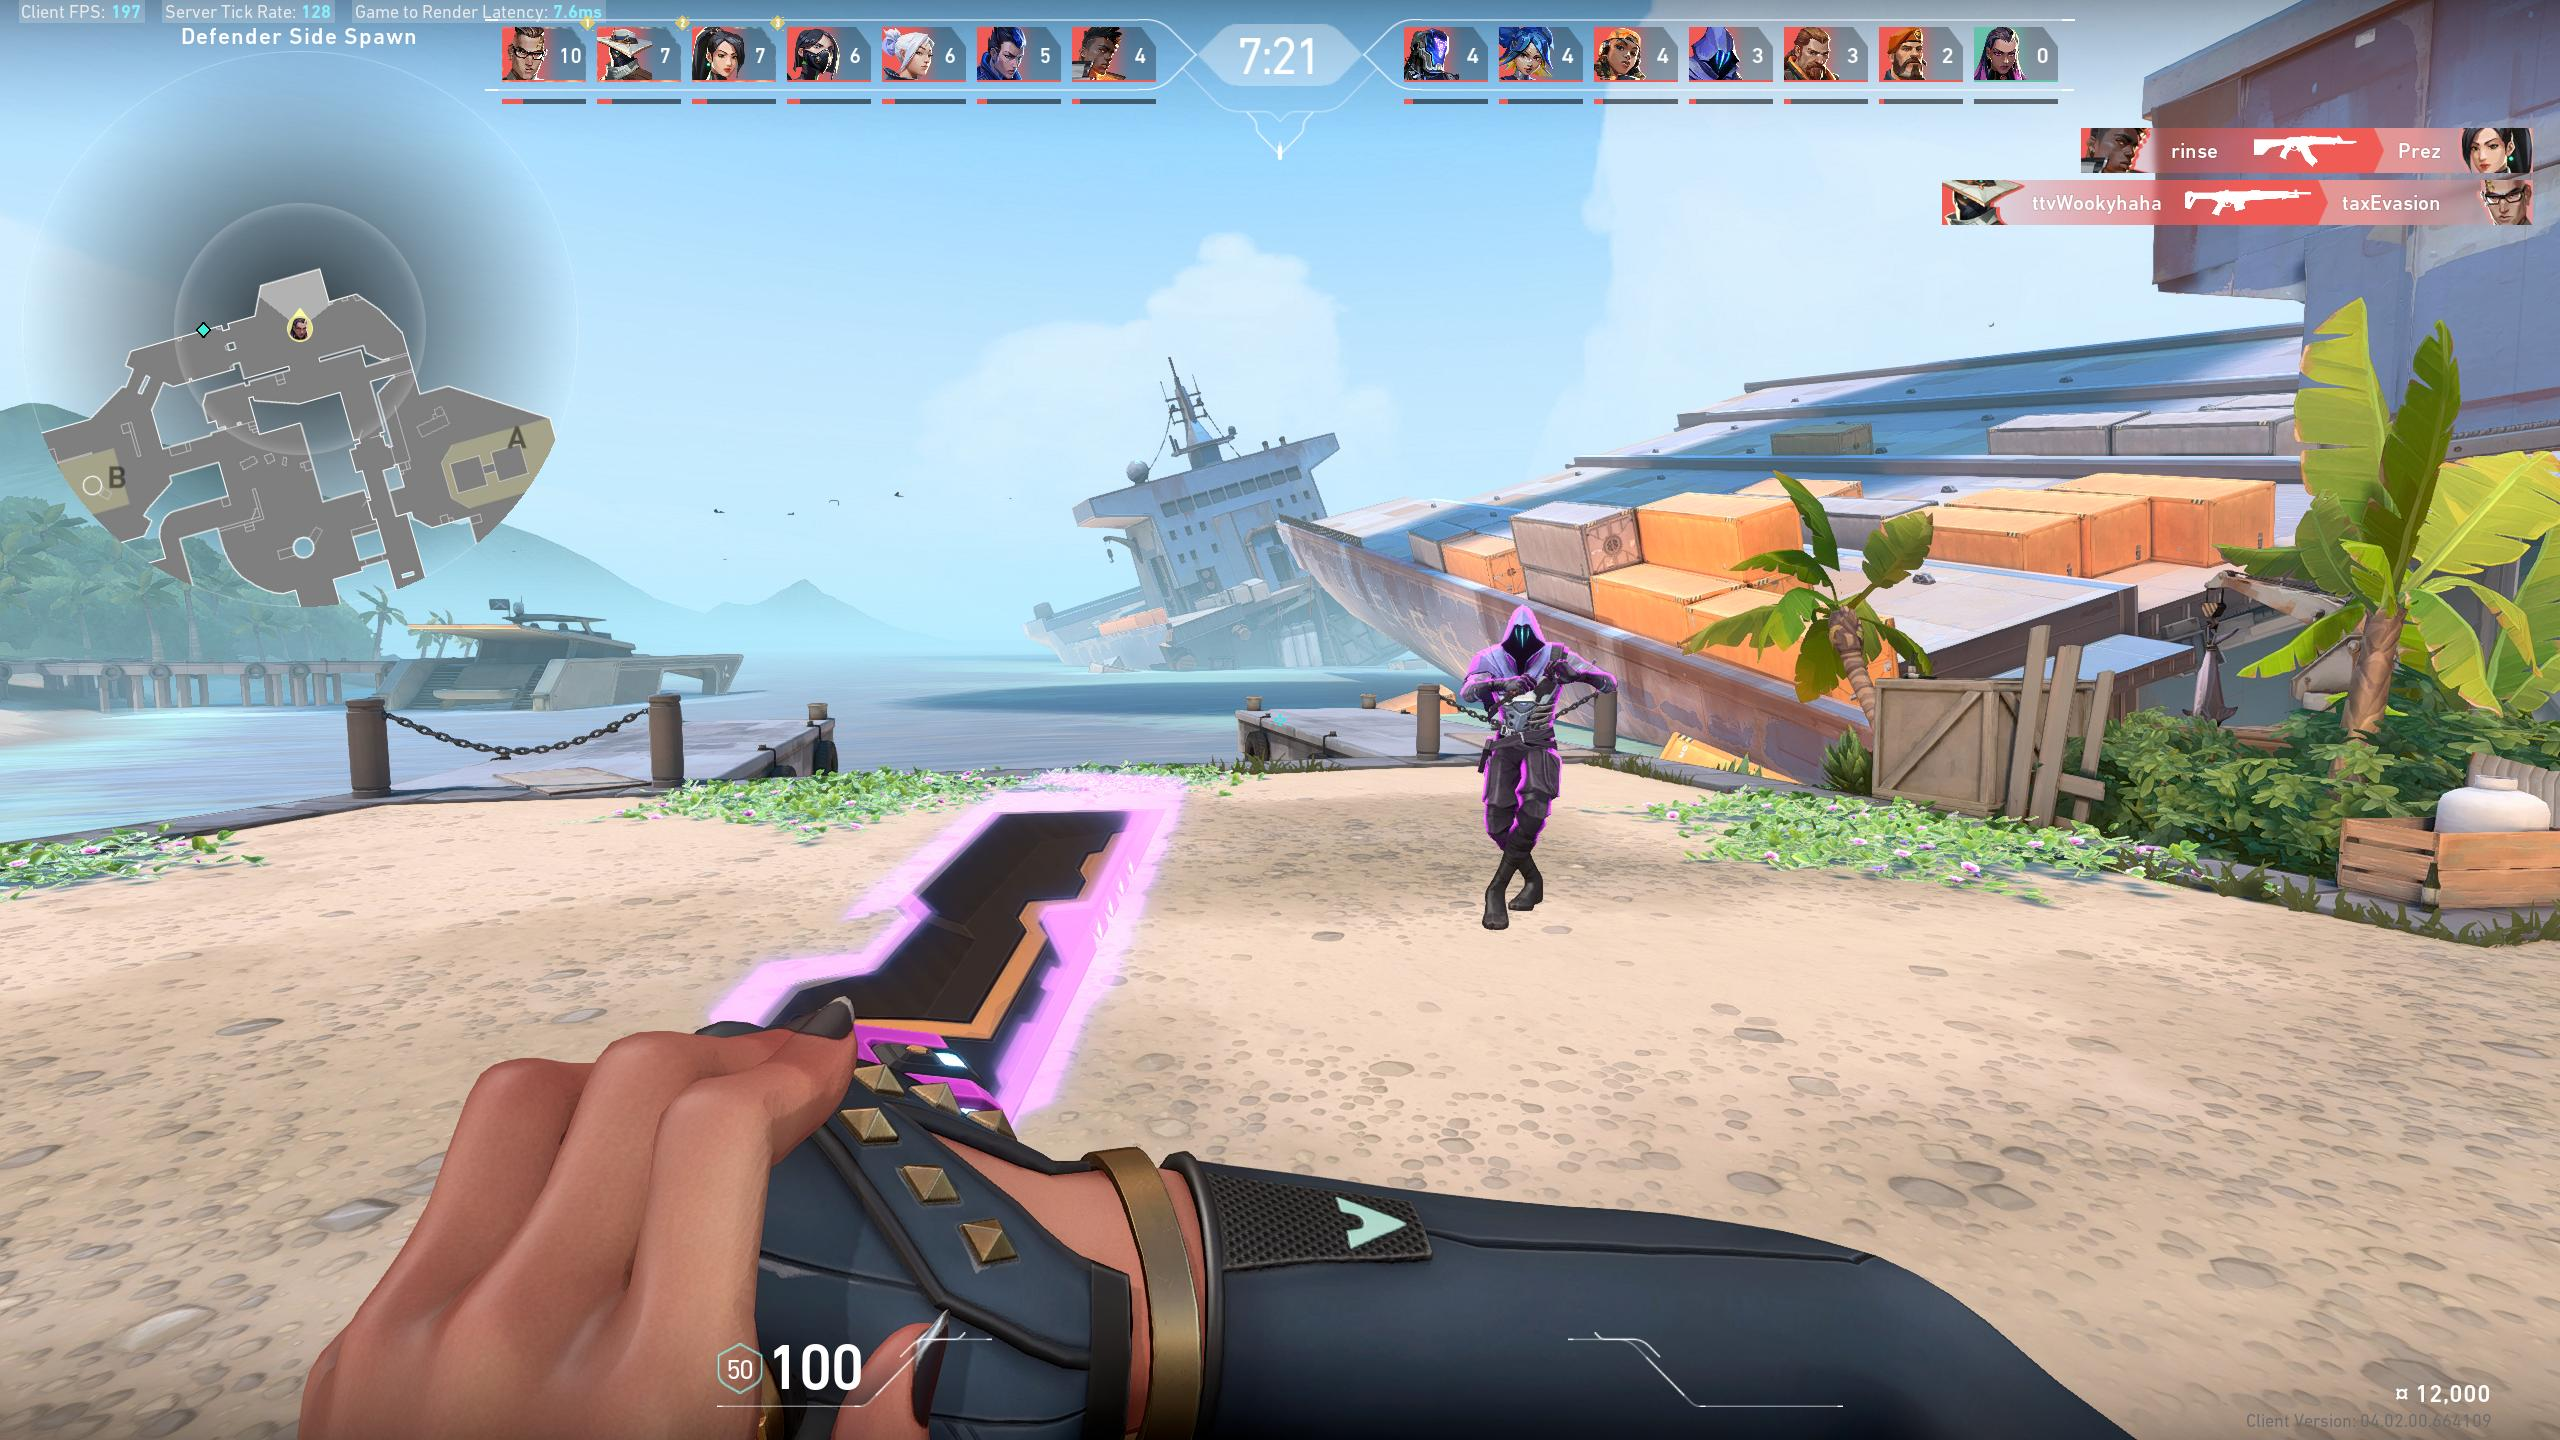enemyBody: (1503, 665, 1544, 740)
enemyHead: (1510, 626, 1537, 658)
